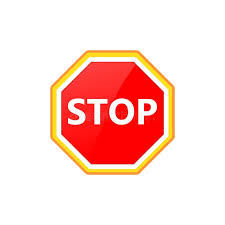stop sign: (48, 50, 175, 176)
